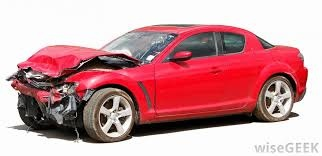Broken-glass: (101, 31, 178, 61)
Smashed: (11, 46, 132, 128)
